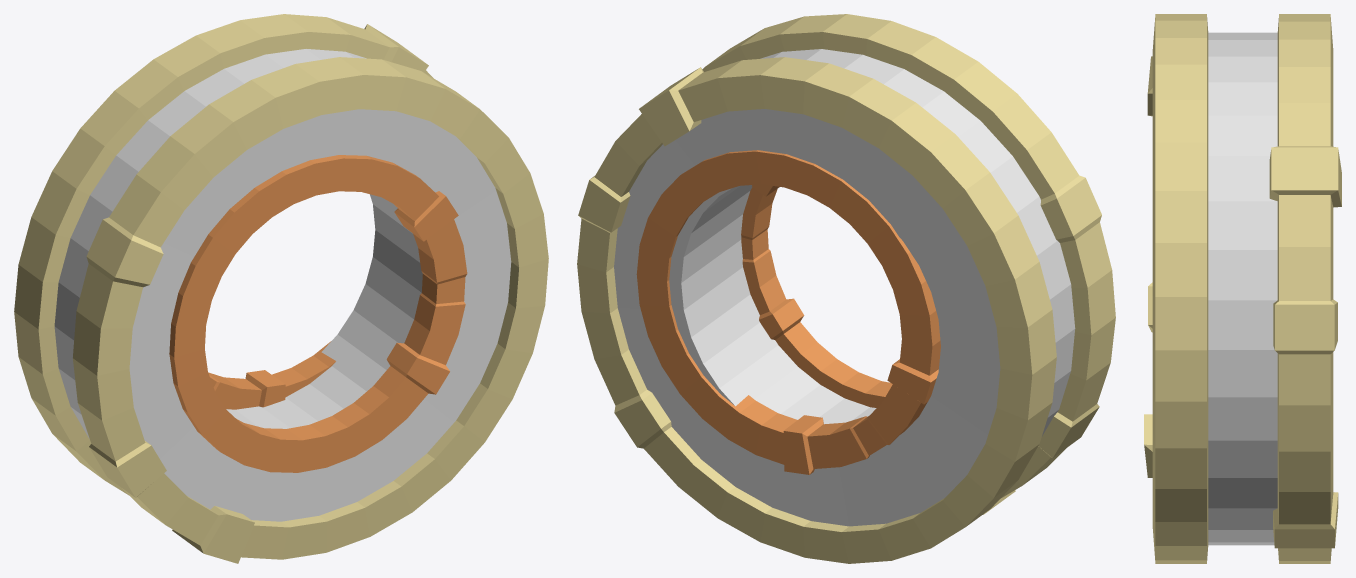
The model's file is Portal.fbx.
3 renders of one model, left to right at view 1: azimuth 30°, elevation 25°; view 2: azimuth 150°, elevation 25°; view 3: azimuth 270°, elevation 25°, orthographic. The views are drawn at different scales.
Parts seen in each view (by area): view 1: Portal_Base, Portal_Cilindro_Exterior_2, Portal_Cilindro_Interior_2, Portal_Cilindro_Exterior, Portal_Cilindro_Interior; view 2: Portal_Base, Portal_Cilindro_Exterior, Portal_Cilindro_Interior, Portal_Cilindro_Exterior_2, Portal_Cilindro_Interior_2; view 3: Portal_Base, Portal_Cilindro_Exterior, Portal_Cilindro_Exterior_2.
Boxes of the visible parts, bbox=[...] form: Portal_Base: bbox=[54, 49, 511, 521]; Portal_Cilindro_Exterior_2: bbox=[72, 57, 548, 563]; Portal_Cilindro_Interior_2: bbox=[169, 155, 467, 472]; Portal_Cilindro_Exterior: bbox=[14, 14, 432, 495]; Portal_Cilindro_Interior: bbox=[208, 341, 335, 409]; Portal_Base: bbox=[614, 49, 1075, 526]; Portal_Cilindro_Exterior: bbox=[577, 57, 1056, 563]; Portal_Cilindro_Interior: bbox=[636, 150, 940, 474]; Portal_Cilindro_Exterior_2: bbox=[702, 14, 1115, 514]; Portal_Cilindro_Interior_2: bbox=[741, 184, 892, 407]; Portal_Base: bbox=[1208, 32, 1277, 545]; Portal_Cilindro_Exterior: bbox=[1269, 14, 1341, 563]; Portal_Cilindro_Exterior_2: bbox=[1144, 14, 1208, 563].
Bounding box in the file's own units: 1097 × 1097 × 394.
